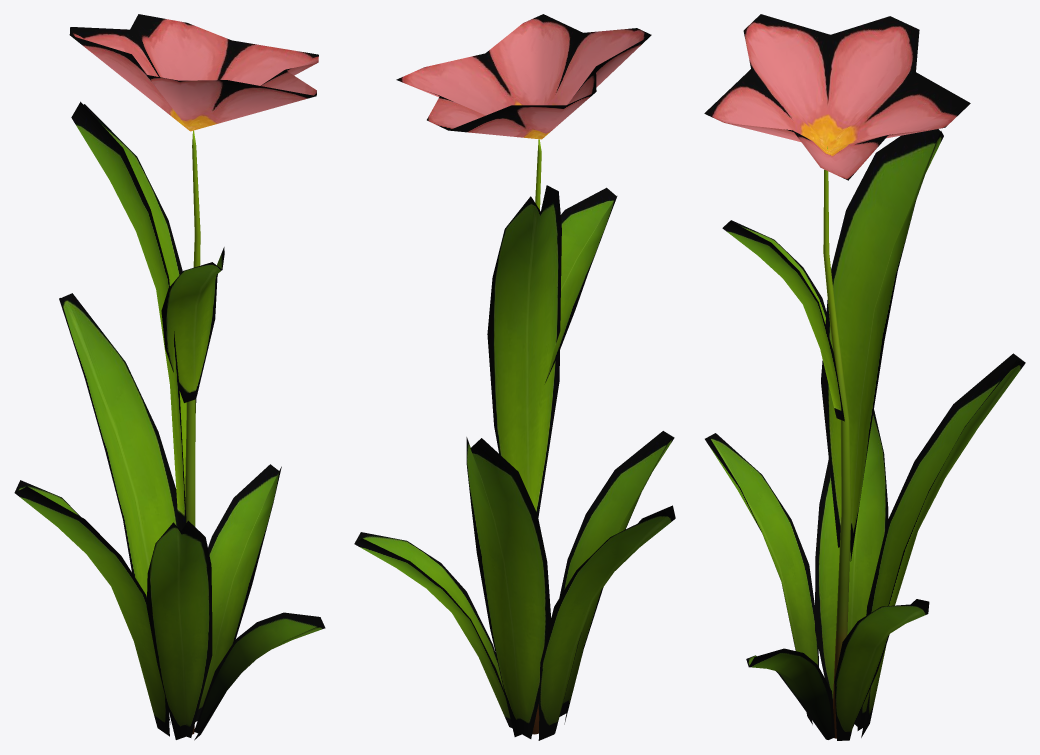
Rendered from flower_3_single.gltf.
3 views of the same model, side by side, from view 1: azimuth 30°, elevation 25°; view 2: azimuth 150°, elevation 25°; view 3: azimuth 270°, elevation 25° (orthographic). The views are drawn at different scales.
Visible parts, largest first — view 1: Flower_3_Single; view 2: Flower_3_Single; view 3: Flower_3_Single.
Part boxes in pixels (bbox=[...]): Flower_3_Single: bbox=[14, 14, 325, 740]; Flower_3_Single: bbox=[354, 14, 675, 740]; Flower_3_Single: bbox=[704, 14, 1025, 740].
Bounding box in the file's own units: 0.9066 × 2.07 × 0.8775.
Materials: 2 (2 with a texture image).
